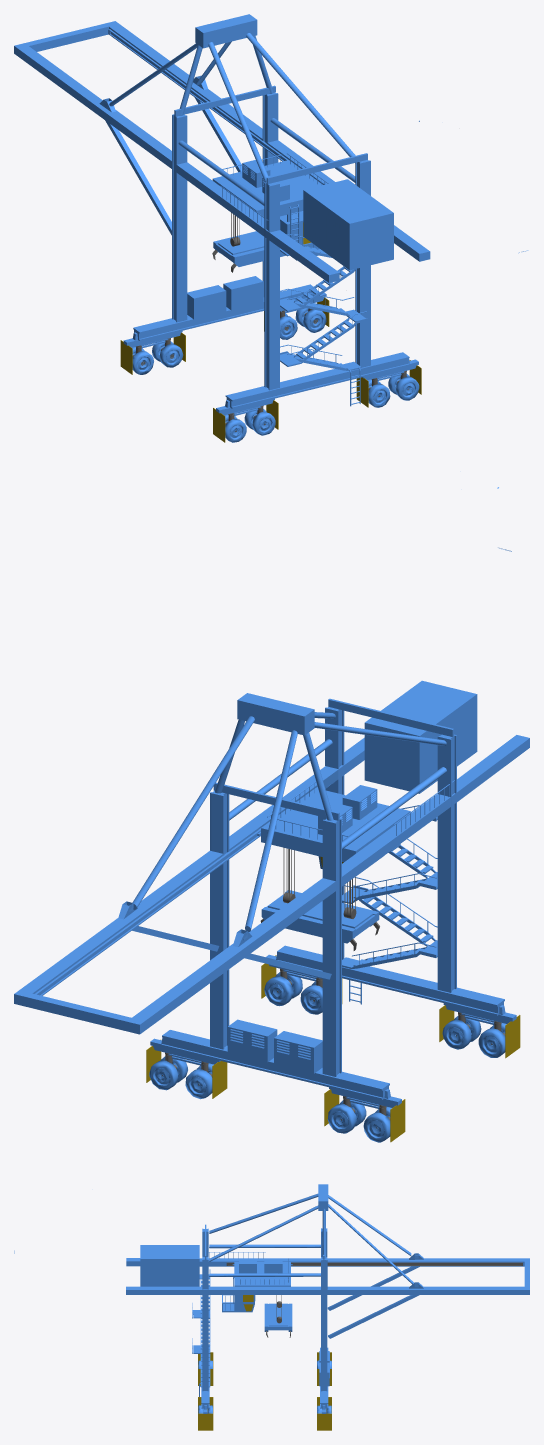
File: crane_harbour.glb
3 views of the same model, one above another, from view 1: azimuth 30°, elevation 25°; view 2: azimuth 150°, elevation 25°; view 3: azimuth 270°, elevation 25° (orthographic). The views are drawn at different scales.
Parts seen in each view (by area): view 1: Harbour Crane_0, 吊机爪仓, 吊机爪仓.001; view 2: Harbour Crane_0, 吊机爪仓, 吊机爪仓.001; view 3: Harbour Crane_0, 吊机爪仓, 吊机爪仓.001.
Boxes of the visible parts, x1,y1,x2,y2 form: Harbour Crane_0: (14, 14, 528, 442); 吊机爪仓: (213, 153, 328, 260); 吊机爪仓.001: (212, 213, 285, 272); Harbour Crane_0: (14, 487, 529, 1142); 吊机爪仓: (259, 781, 410, 908); 吊机爪仓.001: (260, 848, 379, 950); Harbour Crane_0: (14, 1184, 529, 1430); 吊机爪仓: (222, 1258, 290, 1313); 吊机爪仓.001: (264, 1301, 292, 1337).
Size of what is drawn, in the model's own units: 9.34 by 15.64 by 31.33.
